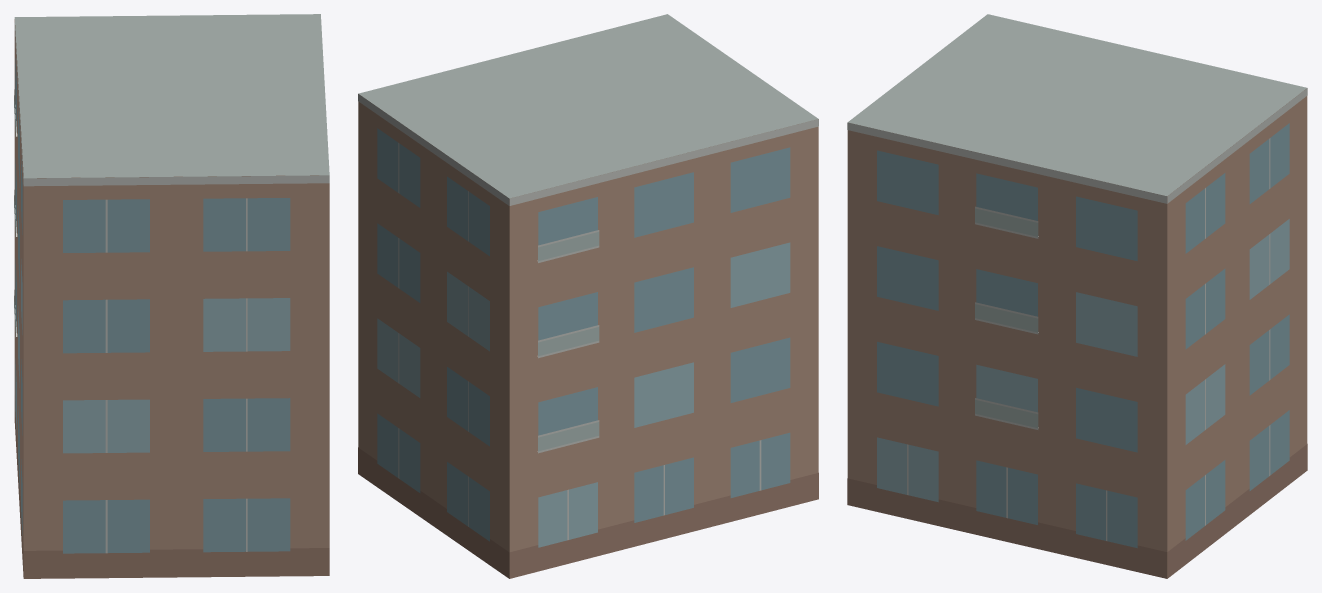
File: residential-537e3aa5-5c9f-4c07-9dc1-2c8ef080ac85.glb
The picture shows the model from 3 angles, left to right: view 1: azimuth 30°, elevation 25°; view 2: azimuth 150°, elevation 25°; view 3: azimuth 270°, elevation 25°; orthographic projection. The views are drawn at different scales.
Parts seen in each view (by area): view 1: residential-537e3aa5-5c9f-4c07-9dc1-2c8ef080ac85.tmp; view 2: residential-537e3aa5-5c9f-4c07-9dc1-2c8ef080ac85.tmp; view 3: residential-537e3aa5-5c9f-4c07-9dc1-2c8ef080ac85.tmp.
Part boxes in pixels (x1,y1,x2,y2): residential-537e3aa5-5c9f-4c07-9dc1-2c8ef080ac85.tmp: [14, 14, 329, 578]; residential-537e3aa5-5c9f-4c07-9dc1-2c8ef080ac85.tmp: [358, 14, 818, 578]; residential-537e3aa5-5c9f-4c07-9dc1-2c8ef080ac85.tmp: [847, 14, 1307, 578].
Bounding box in the file's own units: 12.47 × 12.2 × 13.3.
